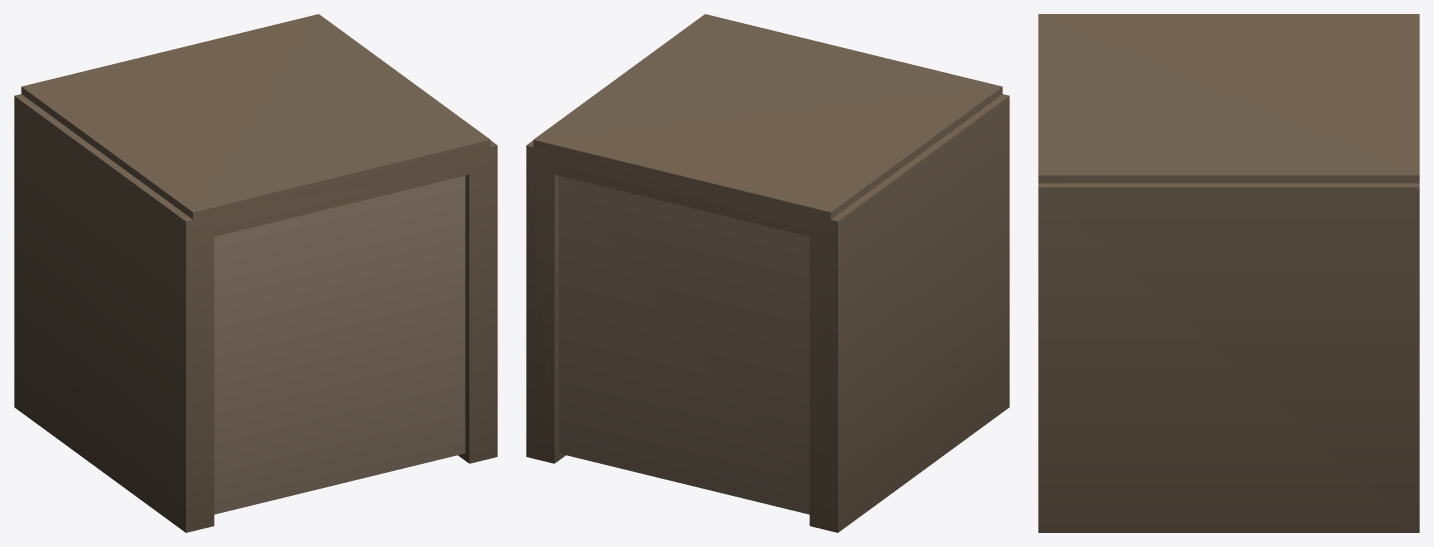
File: crate.glb
The picture shows the model from 3 angles, left to right: view 1: azimuth 30°, elevation 25°; view 2: azimuth 150°, elevation 25°; view 3: azimuth 270°, elevation 25°; orthographic projection. The views are drawn at different scales.
Visible parts, largest first — view 1: crate; view 2: crate; view 3: crate.
Part boxes in pixels (box(x1,y1,x2,y2)): crate: box(14, 14, 497, 532); crate: box(526, 14, 1009, 532); crate: box(1038, 14, 1419, 532).
Bounding box in the file's own units: 0.44 × 0.43 × 0.42.
